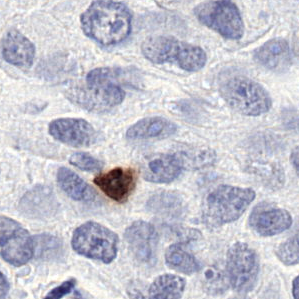Lymphocyte: (92, 167, 140, 205)
